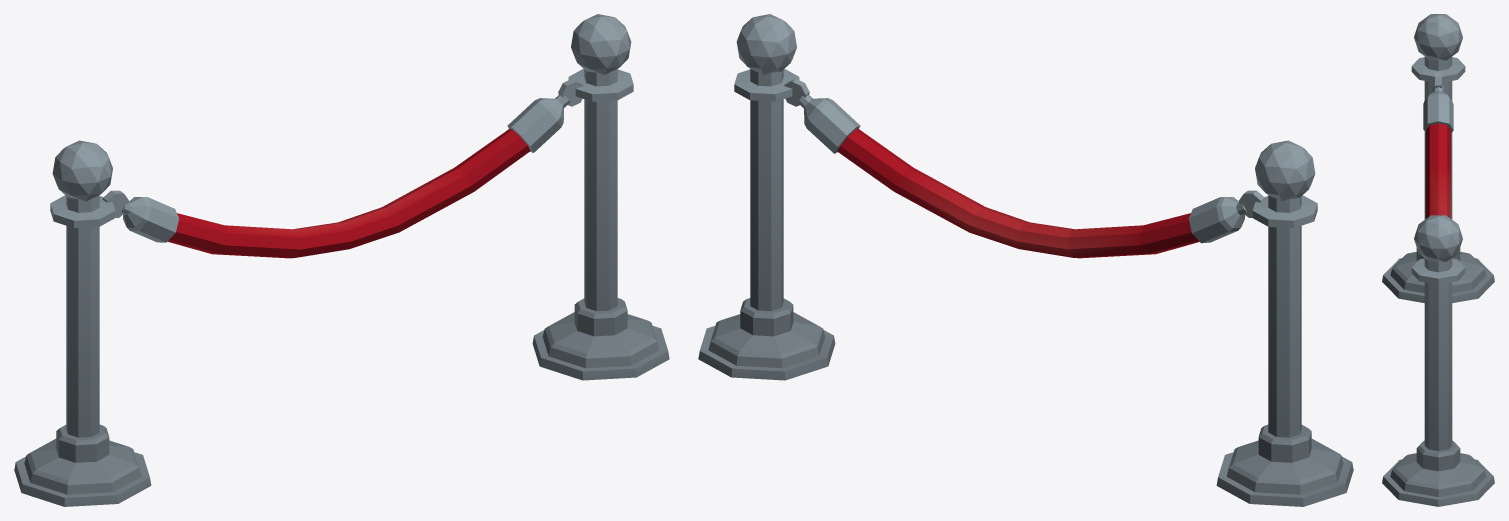
File: VelvetRope.fbx
3 renders of one model, left to right at view 1: azimuth 30°, elevation 25°; view 2: azimuth 150°, elevation 25°; view 3: azimuth 270°, elevation 25°, orthographic. The views are drawn at different scales.
Parts seen in each view (by area): view 1: Pole1.001, Pole1, Rope; view 2: Pole1.001, Pole1, Rope; view 3: Pole1, Pole1.001, Rope.
Boxes of the visible parts, x1=… form: Pole1.001: x1=14, y1=140, x2=151, y2=506; Pole1: x1=532, y1=14, x2=669, y2=380; Rope: x1=102, y1=78, x2=583, y2=258; Pole1.001: x1=1216, y1=140, x2=1353, y2=506; Pole1: x1=698, y1=14, x2=835, y2=380; Rope: x1=784, y1=78, x2=1265, y2=258; Pole1: x1=1382, y1=215, x2=1494, y2=506; Pole1.001: x1=1382, y1=14, x2=1494, y2=302; Rope: x1=1423, y1=72, x2=1453, y2=218.
Size of the model in its own units: 119 by 59.46 by 22.83.
